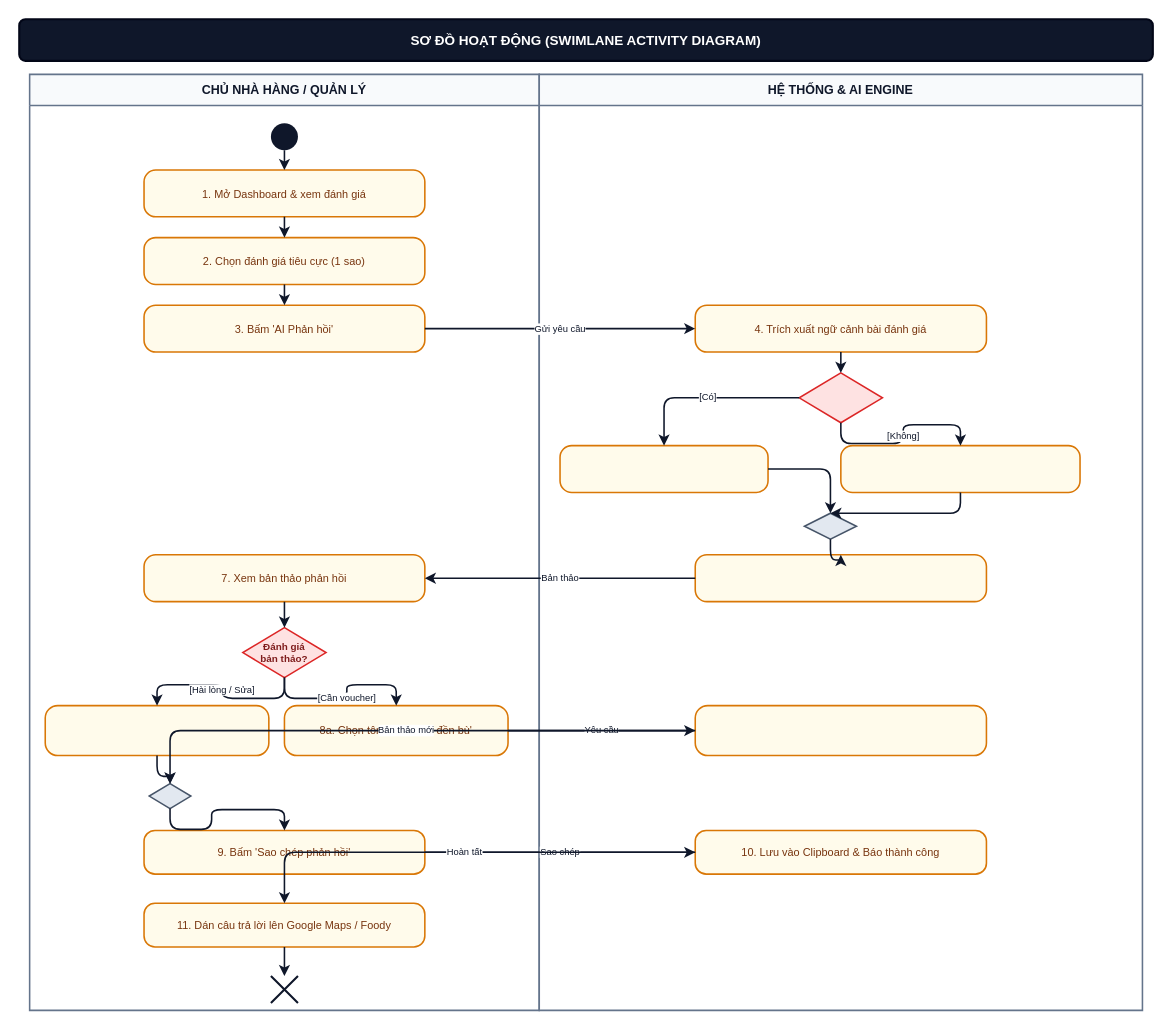
This 1171x1029 diagram has some shape labels left out. Here are the shapes that lost their labels. From the top down, the centre of each, then its label:
the point at 840,397: Có Cache?
the point at 663,468: 5a. Lấy từ Session Cache
the point at 960,468: 5b. Gọi Gemini sinh thư mới
the point at 840,578: 6. Lưu cache & trả bản thảo về Modal
the point at 156,730: 8b. Sửa trực tiếp nội dung
the point at 840,730: Tạo mã Voucher & sinh lại thư
